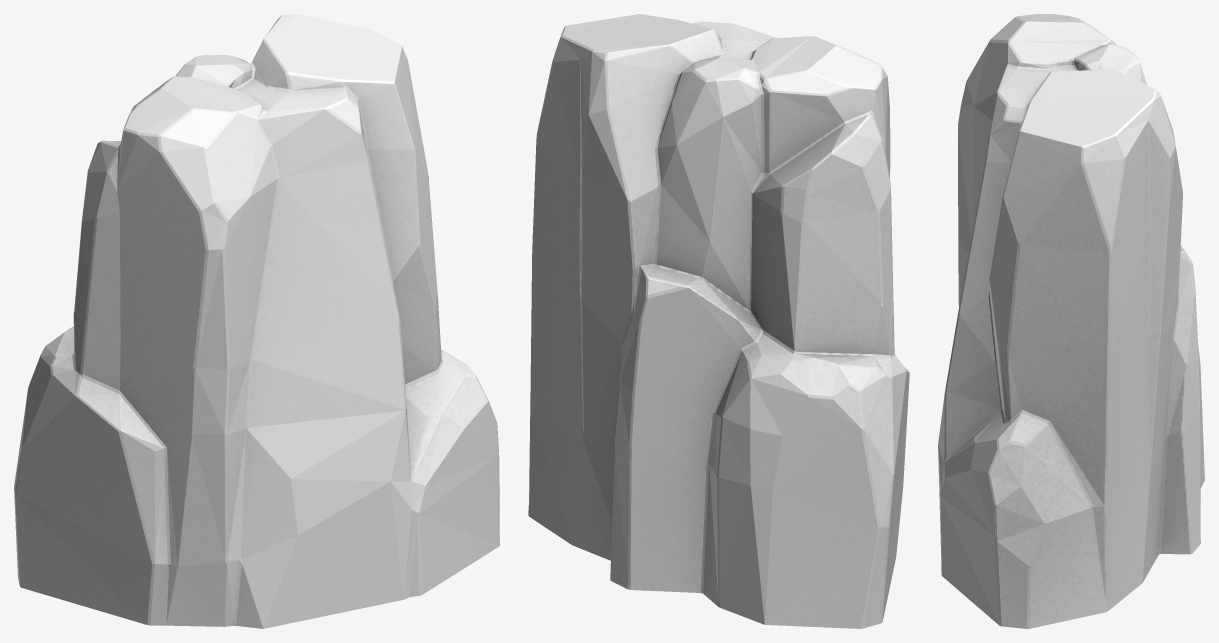
Rendered from wall_03.fbx.
3 views of the same model, side by side, from view 1: azimuth 30°, elevation 25°; view 2: azimuth 150°, elevation 25°; view 3: azimuth 270°, elevation 25° (orthographic). The views are drawn at different scales.
Visible parts, largest first — view 1: rock_combo_4.003; view 2: rock_combo_4.003; view 3: rock_combo_4.003.
Boxes of the visible parts, left/top/right/bottom form: rock_combo_4.003: left=14, top=14, right=499, bottom=628; rock_combo_4.003: left=528, top=14, right=909, bottom=628; rock_combo_4.003: left=938, top=14, right=1204, bottom=628.
Size of the model in its own units: 377 by 440 by 224.
Materials: 1 (1 with a texture image).
